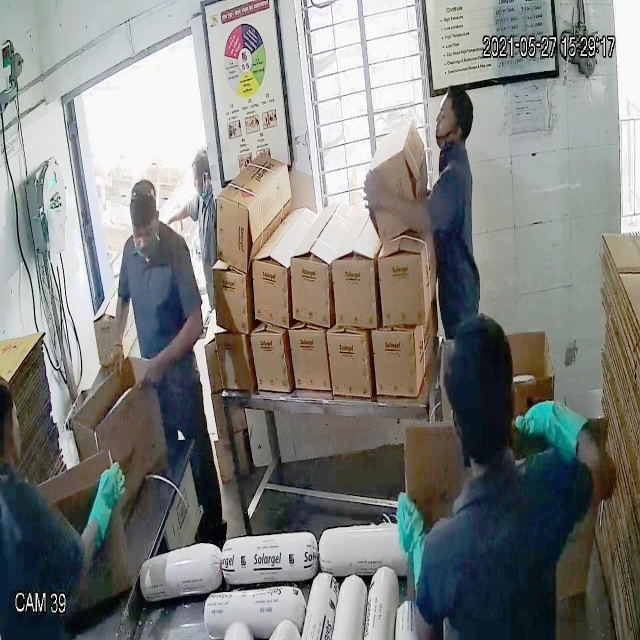Sin_gafas: (125, 215, 162, 248)
